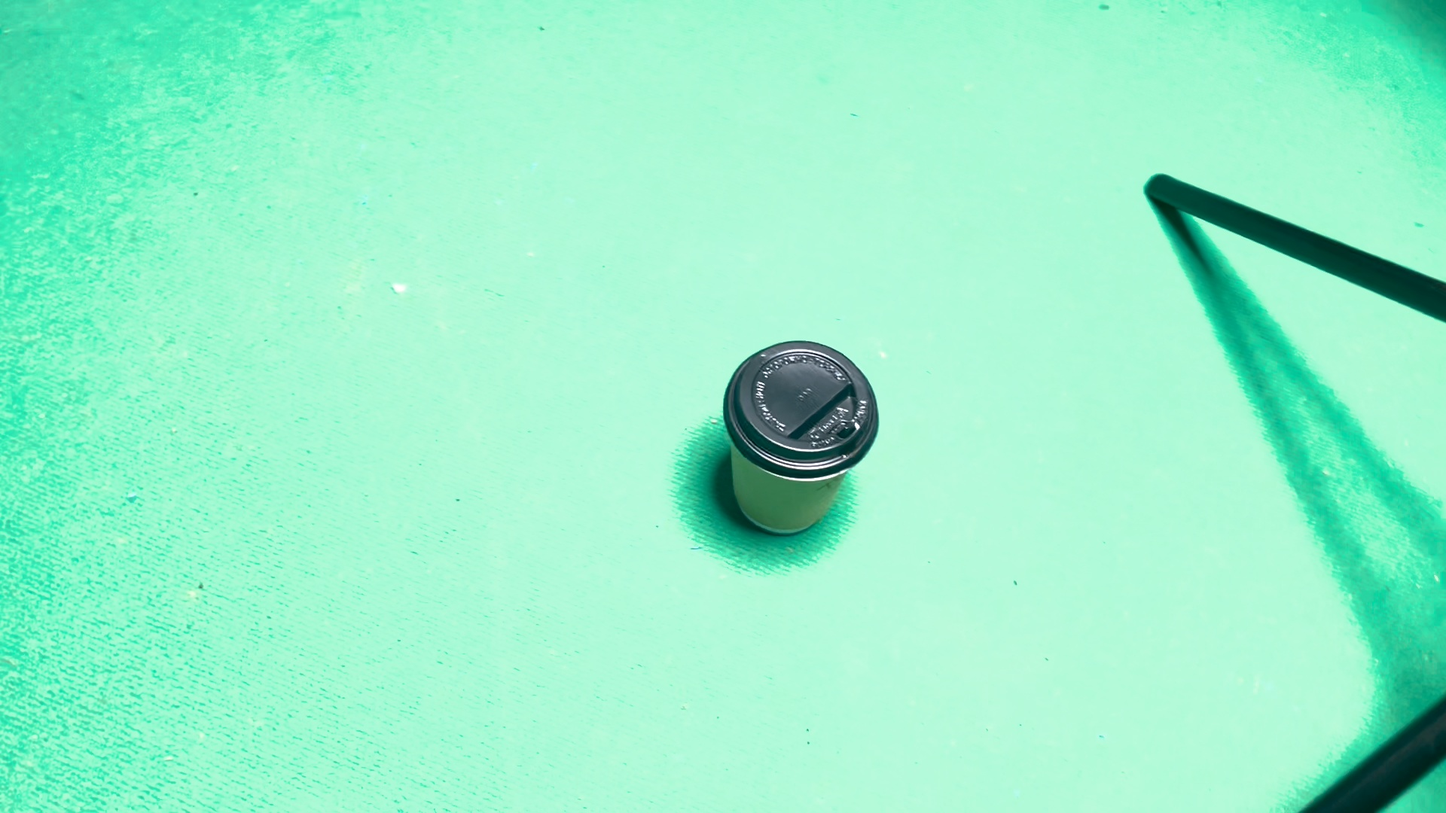cup: (734, 467, 832, 596)
